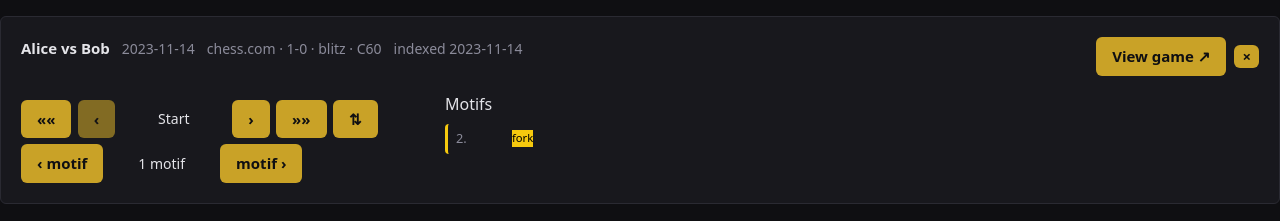
Scenario: GameDetailPanel › next button is disabled at end
Note: Advance through all 4 half-moves
Click the button named "Next move" at (251, 119), box [232,100,270,138]
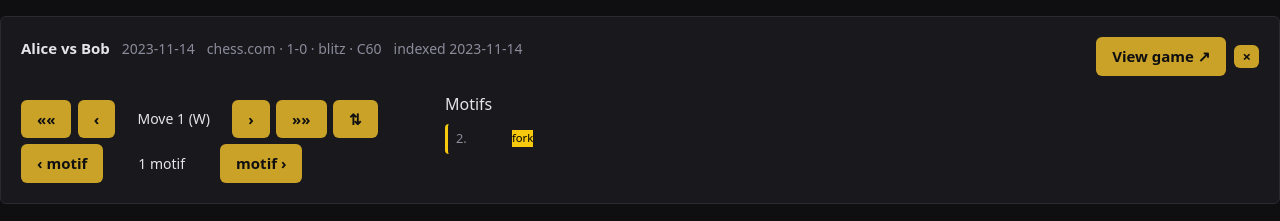
Click the button named "Next move" at (251, 119), box [232,100,270,138]
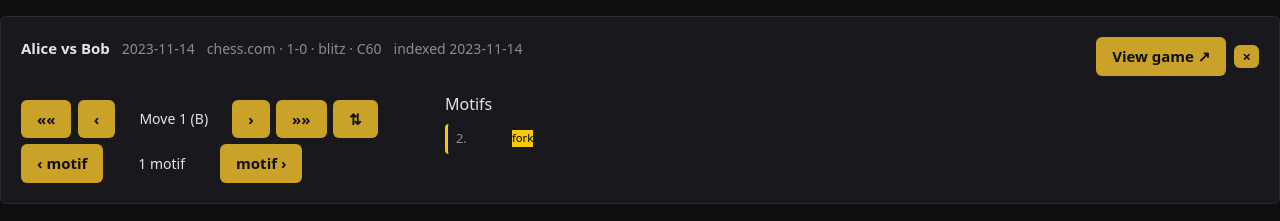
Click the button named "Next move" at (251, 119), box [232,100,270,138]
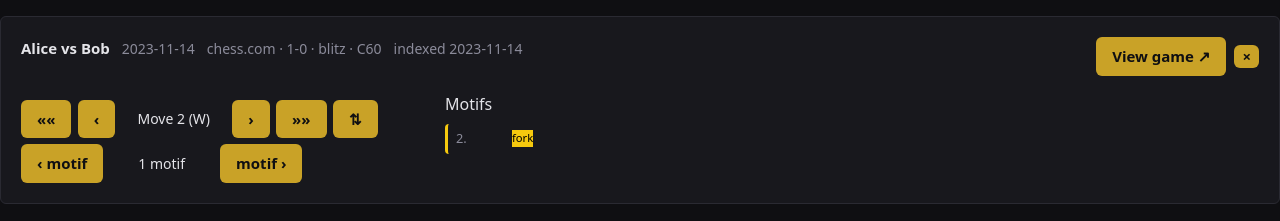
Click the button named "Next move" at (251, 119), box [232,100,270,138]
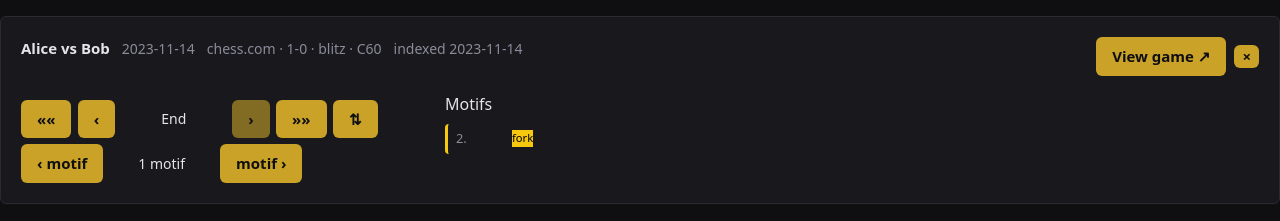
Now the button named "Next move" is disabled, box [232,100,270,138]
Now the text "End" is shown, box [161,109,186,128]
